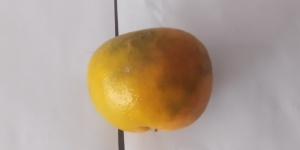BAD: (87, 27, 215, 132)
